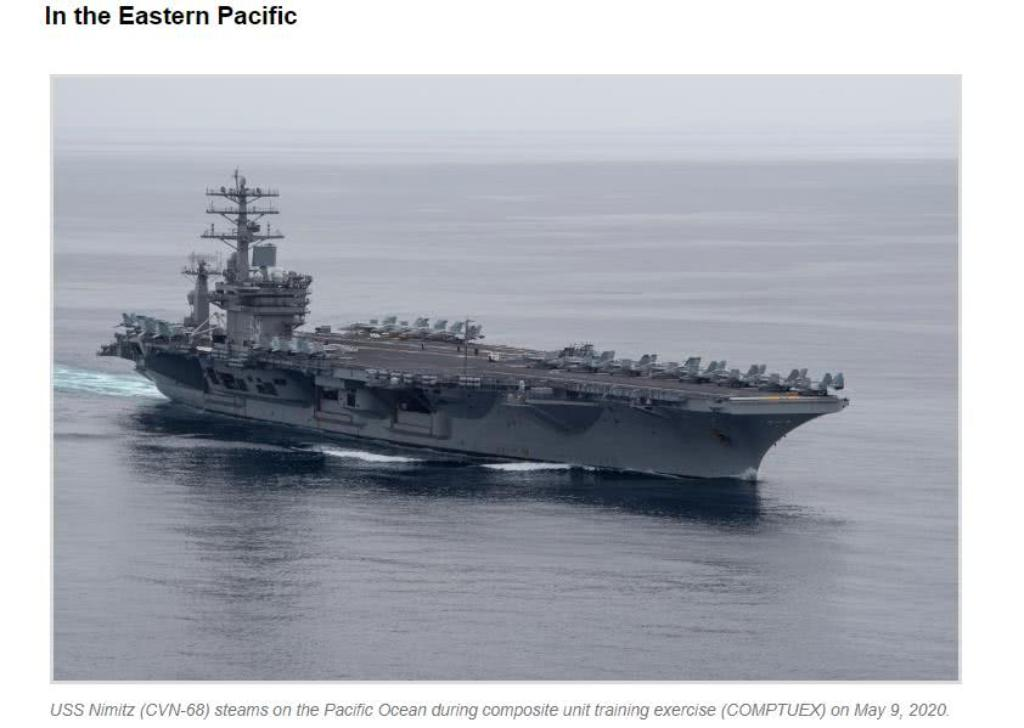Warship: (83, 153, 853, 487)
